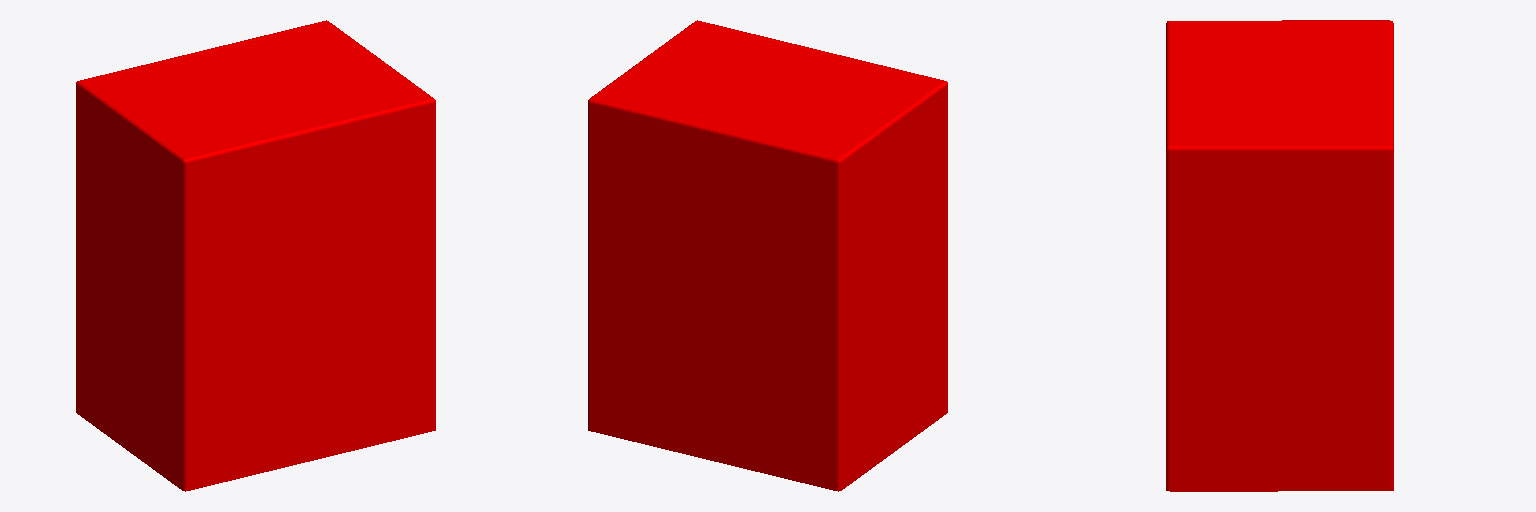
robot.urdf — box_target:
<robot name="box_target">
  <material name="custom_pink"><color rgba="1.0 0.0 0.0 1"/></material>
  <link name="box">
    <inertial>
      <mass value="1.0" />
      <origin xyz="0 0 0.0" /> 
      <inertia  ixx="0.01" ixy="0.0"  ixz="0.0"  iyy="0.01"  iyz="0.0"  izz="0.01" />
    </inertial>
    <visual>
      <origin xyz="0 0 0" rpy="1.571 0 0" />
      <geometry>
        <mesh filename="box2-filled.obj" scale="0.001 0.001 0.001"/>
      </geometry>
      <material name="custom_pink"/>
    </visual>
    <collision>
      <origin xyz="0 0 0" rpy="1.571 0 0" />
      <geometry>
        <mesh filename="box2-filled.obj" scale="0.001 0.001 0.001"/>
      </geometry>
    </collision>
  </link>
</robot>

--- What the picture shows (computed from the rendered views, not written in the file) ---
The picture shows the robot from 3 angles, left to right: view 1: azimuth 30°, elevation 25°; view 2: azimuth 150°, elevation 25°; view 3: azimuth 270°, elevation 25°; orthographic projection.
Robot: box_target — 1 links, 0 joints (none); root link box; default pose: every joint at zero.
Links seen in each view (by area): view 1: box; view 2: box; view 3: box.
Link boxes in pixels (x1,y1,x2,y2): box: (76,20,435,491); box: (588,20,947,491); box: (1166,20,1393,491).
Bounding box of the posed robot: 0.08 × 0.06 × 0.1 m (x, y, z).
Meshes: 1 distinct files referenced, 1 mesh visuals loaded (1 OBJ).